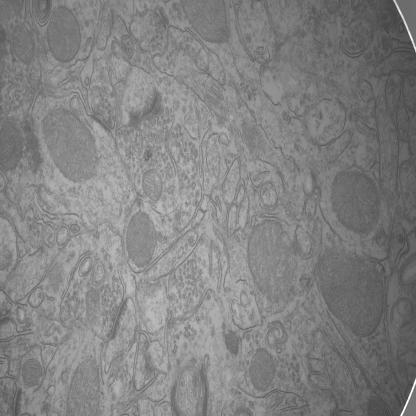mitochondria: (316, 252, 384, 337), (42, 109, 99, 184), (246, 223, 298, 300), (328, 170, 380, 232), (179, 0, 232, 46), (45, 8, 82, 62), (124, 210, 157, 270), (67, 355, 99, 416), (0, 121, 23, 174), (11, 24, 34, 64), (142, 170, 165, 204), (21, 360, 45, 385)
